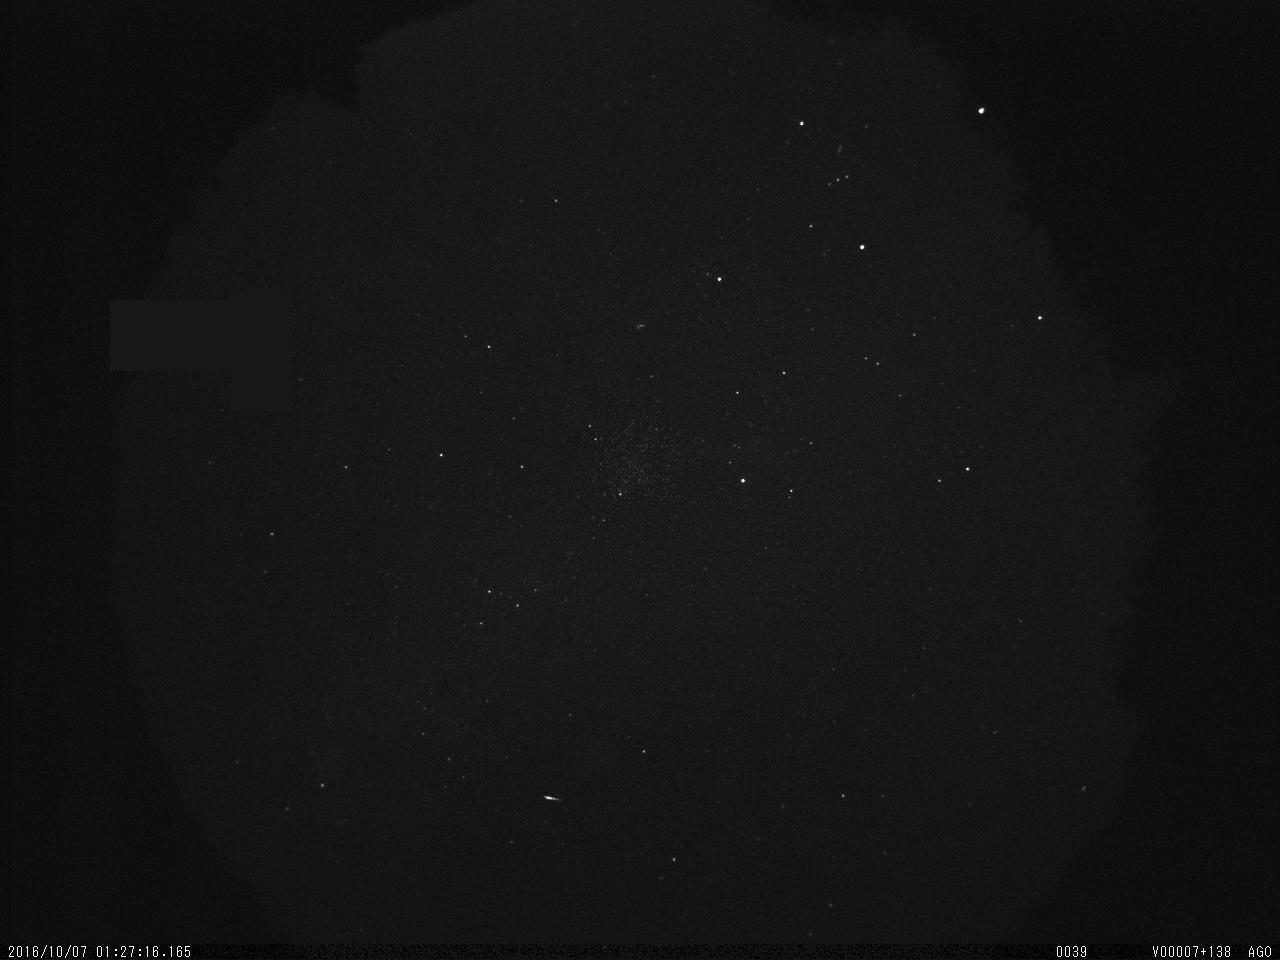meteor: (520, 777, 580, 821)
